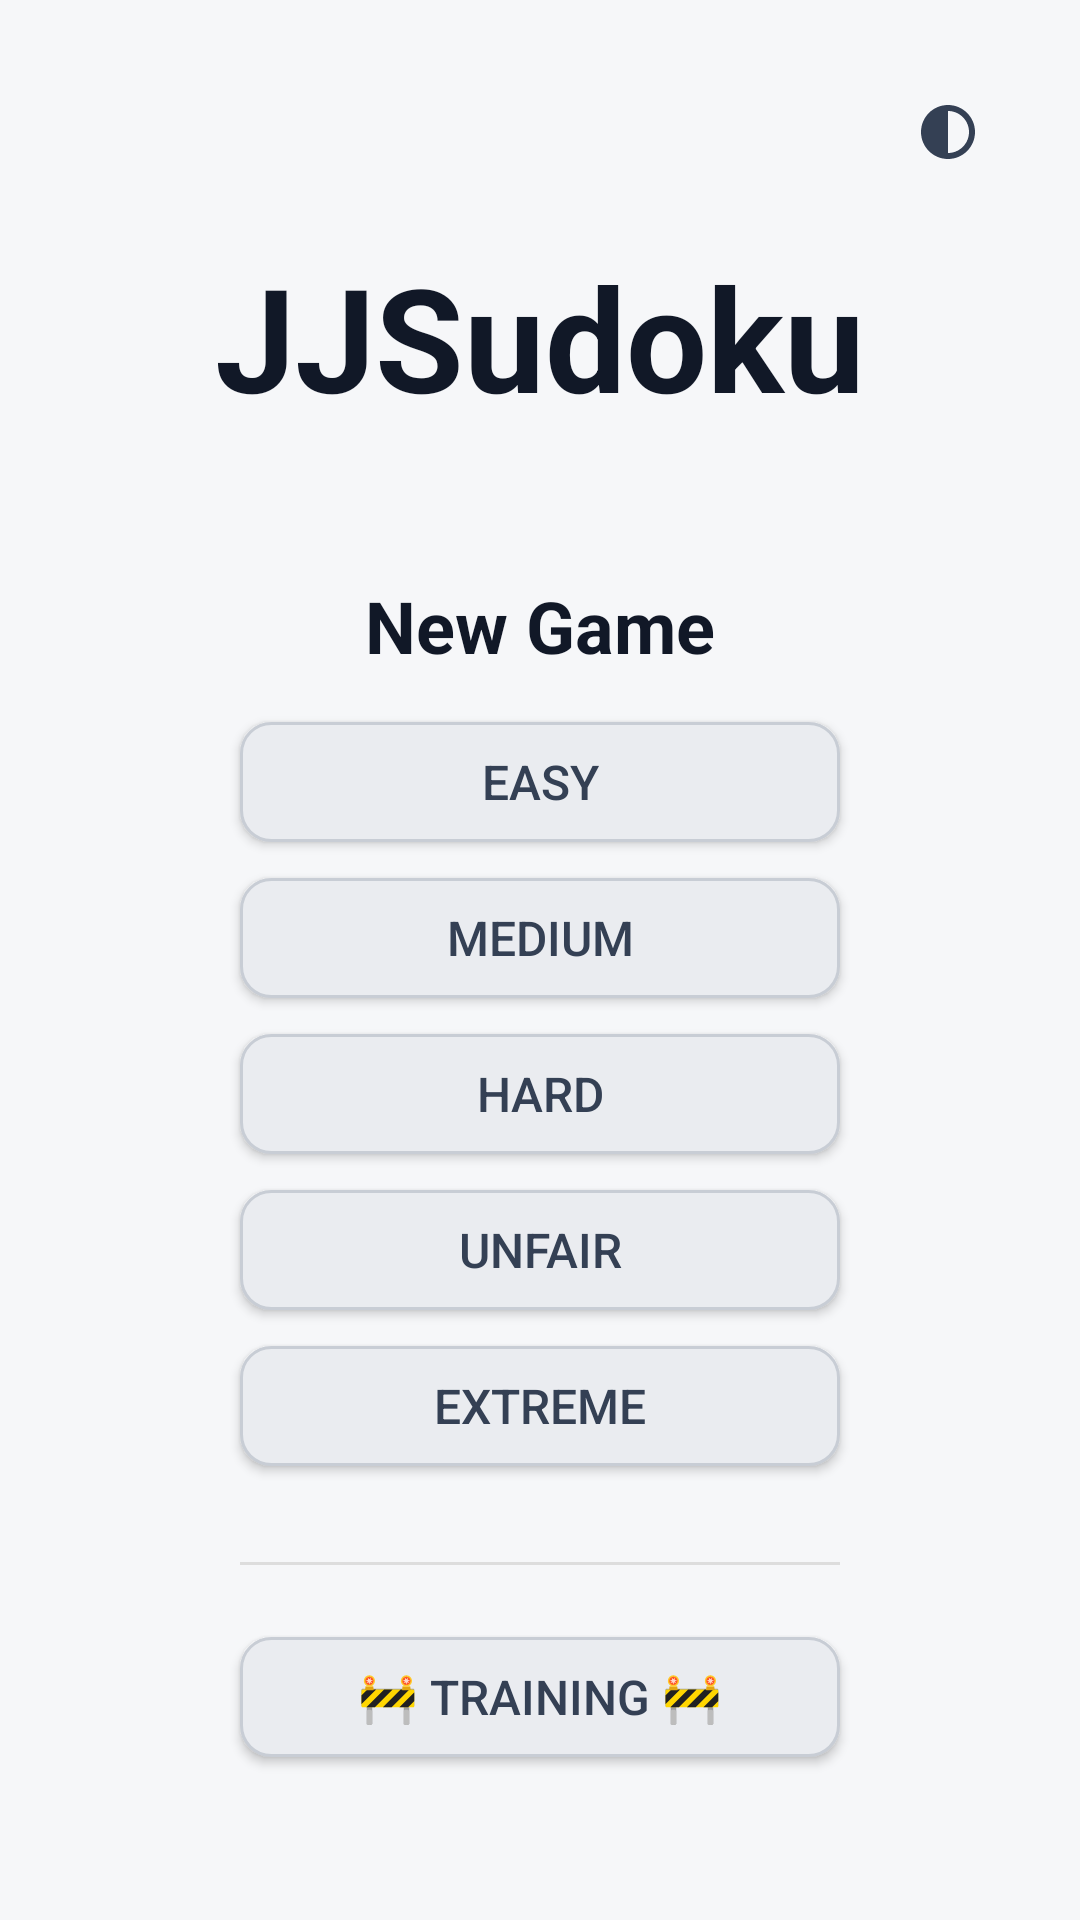

Screen size 1080×1920. Icon name, then its center in pixels as point (x, y):
Toggle light/dark theme: point (948, 132)
